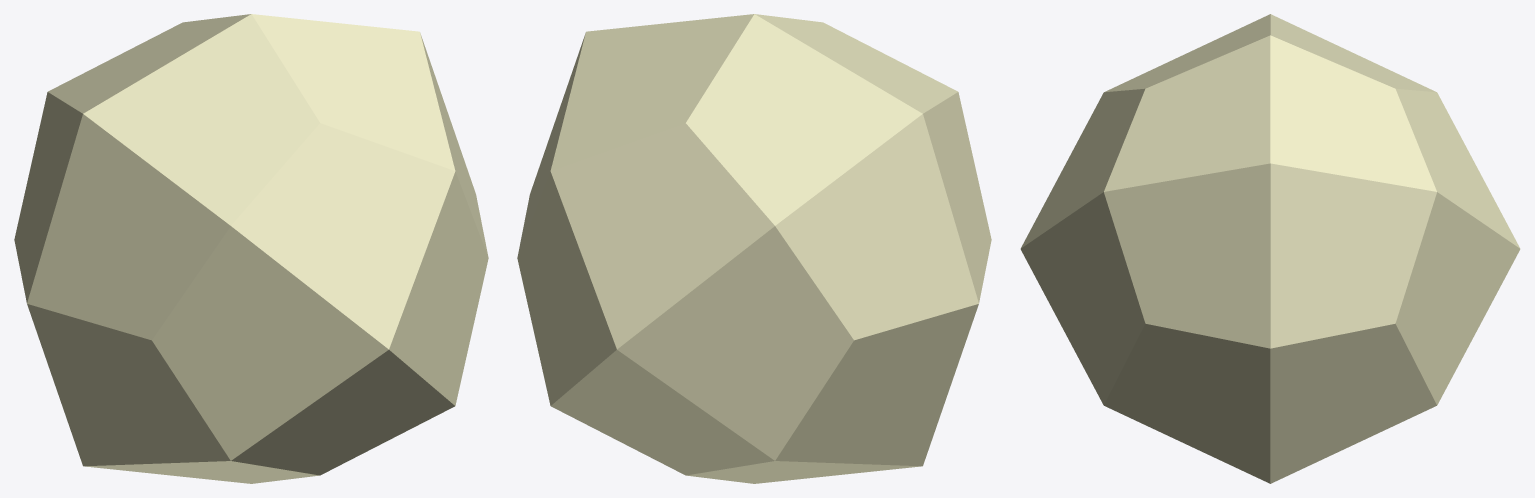
Rendered from Icosaedro.fbx.
The picture shows the model from 3 angles, left to right: view 1: azimuth 30°, elevation 25°; view 2: azimuth 150°, elevation 25°; view 3: azimuth 270°, elevation 25°; orthographic projection. The views are drawn at different scales.
Parts seen in each view (by area): view 1: Model; view 2: Model; view 3: Model.
Boxes of the visible parts, x1,y1,x2,y2 form: Model: (14, 14, 488, 483); Model: (517, 14, 991, 483); Model: (1020, 14, 1520, 483).
Bounding box in the file's own units: 120 × 120 × 127.
